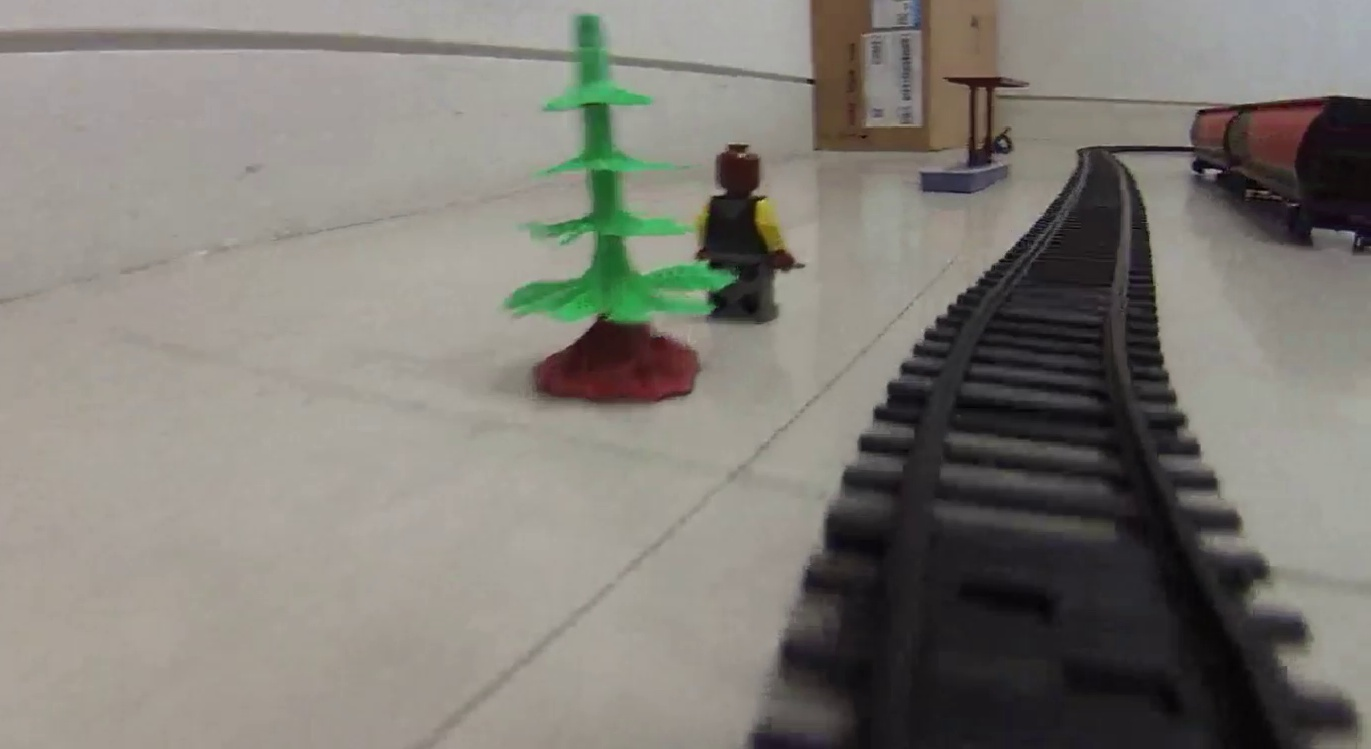people: (704, 145, 792, 322)
tree: (503, 11, 714, 401)
